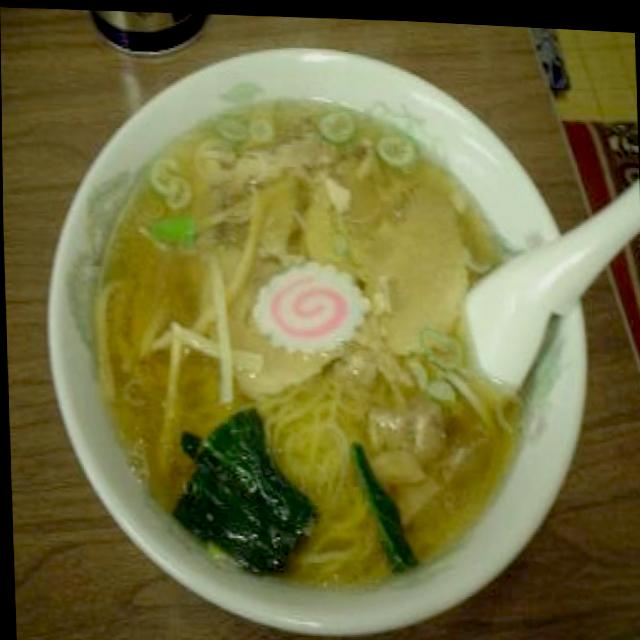面条主食: (33, 12, 619, 640)
